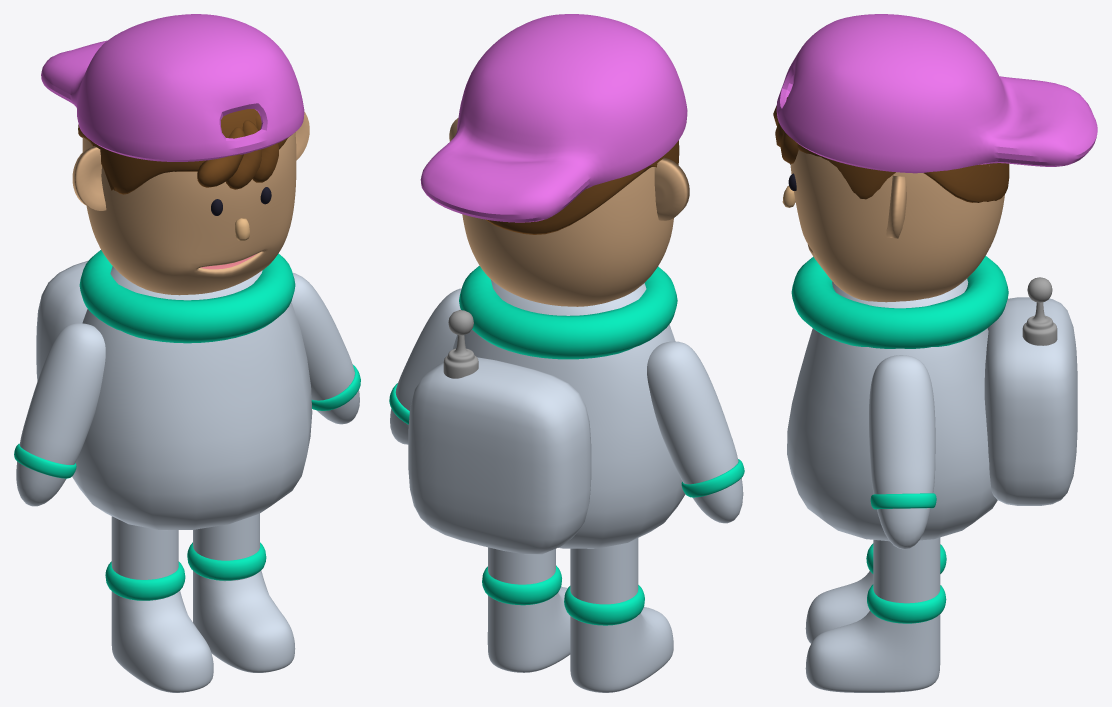
The model's file is marcel.glb.
The picture shows the model from 3 angles, left to right: view 1: azimuth 30°, elevation 25°; view 2: azimuth 150°, elevation 25°; view 3: azimuth 270°, elevation 25°; orthographic projection.
Parts seen in each view (by area): view 1: Cube.024, hat.001, hlava.001, Cube.026, Torus.004, Cube.025, Cube.032, Cube.029, Cube.033, vlasy.001, Cylinder.012, Cube.028 (+6 smaller); view 2: hat.001, Cube.033, Cube.024, hlava.001, Torus.004, Cube.026, Cube.032, Cube.025, Cube.029, vlasy.001, Cylinder.012, Cube.028 (+3 smaller); view 3: hat.001, Cube.024, hlava.001, Cube.033, Cube.025, Torus.004, Cube.029, vlasy.001, Cube.026, Cube.027, Cylinder.007, Cube.030 (+1 smaller).
Boxes of the visible parts, x1,y1,x2,y2 form: Cube.024: [72, 266, 312, 530]; hat.001: [41, 14, 304, 161]; hlava.001: [82, 132, 296, 295]; Cube.026: [111, 516, 213, 692]; Torus.004: [79, 250, 295, 343]; Cube.025: [193, 513, 295, 672]; Cube.032: [16, 323, 105, 506]; Cube.029: [291, 273, 359, 424]; Cube.033: [36, 260, 88, 381]; vlasy.001: [78, 109, 288, 194]; Cylinder.012: [72, 112, 309, 210]; Cube.028: [105, 561, 185, 600]; hat.001: [420, 14, 687, 222]; Cube.033: [408, 357, 591, 554]; Cube.024: [453, 280, 685, 548]; hlava.001: [462, 167, 673, 306]; Torus.004: [459, 266, 677, 359]; Cube.026: [570, 538, 673, 692]; Cube.032: [647, 341, 743, 523]; Cube.025: [487, 547, 570, 672]; Cube.029: [390, 288, 461, 444]; vlasy.001: [485, 140, 679, 234]; Cylinder.012: [449, 118, 689, 220]; Cube.028: [564, 585, 644, 625]; hat.001: [776, 14, 1097, 173]; Cube.024: [787, 279, 997, 541]; hlava.001: [790, 150, 1004, 302]; Cube.033: [984, 297, 1077, 505]; Cube.025: [805, 537, 940, 692]; Torus.004: [791, 256, 1008, 348]; Cube.029: [869, 355, 935, 549]; vlasy.001: [797, 143, 1009, 202]; Cube.026: [805, 571, 873, 643]; Cube.027: [867, 584, 946, 623]; Cylinder.007: [1022, 277, 1057, 345]; Cube.030: [870, 493, 936, 509].
Size of the model in its own units: 1.34 by 2.36 by 1.1.
